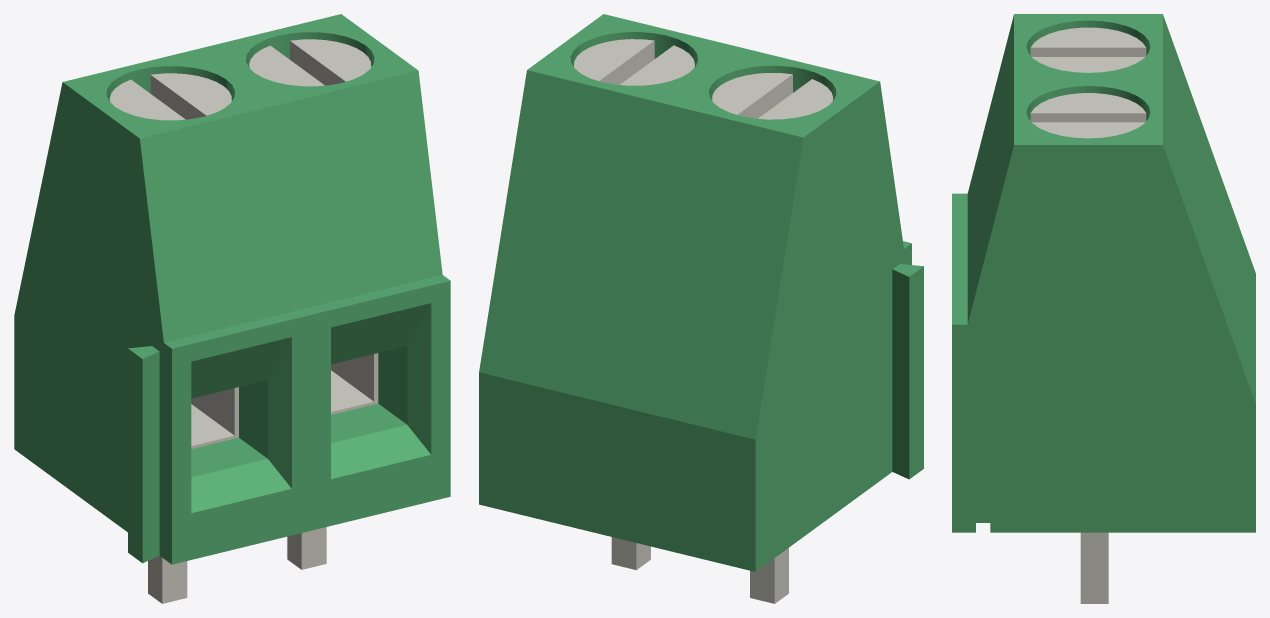
Rendered from kc-terminalblock_phoenix_mkds-1_5-2_1x02_p5.00mm_horizontal.glb.
The picture shows the model from 3 angles, left to right: view 1: azimuth 30°, elevation 25°; view 2: azimuth 150°, elevation 25°; view 3: azimuth 270°, elevation 25°; orthographic projection. The views are drawn at different scales.
Visible parts, largest first — view 1: 0.08333333333333333_0.4166666666666667_0.16666666666666666_0, 0.6666666666666666_0.6666666666666666_0.5833333333333334_0.8; view 2: 0.08333333333333333_0.4166666666666667_0.16666666666666666_0, 0.6666666666666666_0.6666666666666666_0.5833333333333334_0.8; view 3: 0.08333333333333333_0.4166666666666667_0.16666666666666666_0, 0.6666666666666666_0.6666666666666666_0.5833333333333334_0.8.
Boxes of the visible parts, x1,y1,x2,y2 form: 0.08333333333333333_0.4166666666666667_0.16666666666666666_0: [14, 14, 450, 564]; 0.6666666666666666_0.6666666666666666_0.5833333333333334_0.8: [109, 39, 378, 603]; 0.08333333333333333_0.4166666666666667_0.16666666666666666_0: [479, 14, 923, 571]; 0.6666666666666666_0.6666666666666666_0.5833333333333334_0.8: [574, 39, 833, 603]; 0.08333333333333333_0.4166666666666667_0.16666666666666666_0: [952, 14, 1255, 532]; 0.6666666666666666_0.6666666666666666_0.5833333333333334_0.8: [1030, 27, 1146, 603].
Size of the model in its own units: 1.07 by 1.73 by 0.98.
